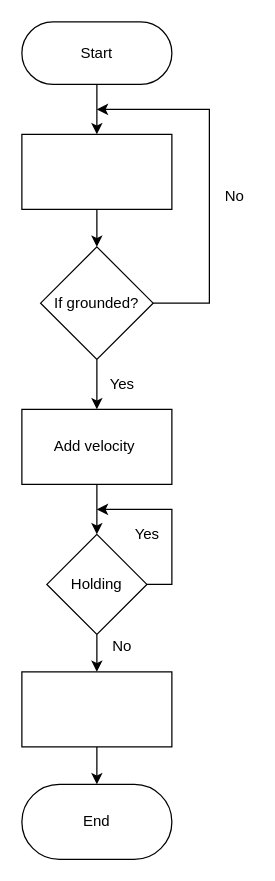
Image size: 275x881. Some labels were removed from this diagram. The box of each missing label's shape, as (x1, y1, x2, y2) in pixels:
Increase gravity: (21, 671, 172, 747)
Player presses input: (21, 133, 172, 209)
